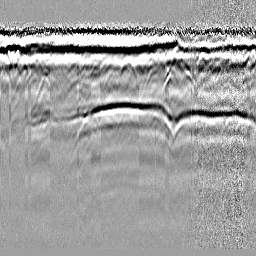cavity: (117, 55, 138, 81)
